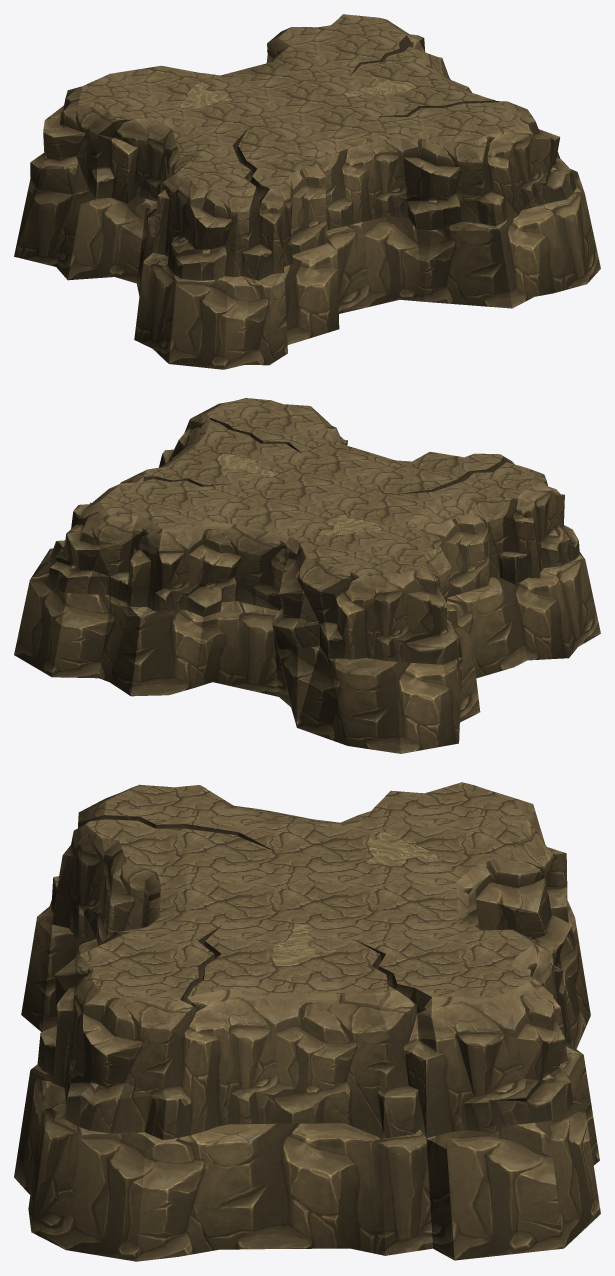
The model's file is D_dimian005.fbx.
3 views of the same model, one above another, from view 1: azimuth 30°, elevation 25°; view 2: azimuth 150°, elevation 25°; view 3: azimuth 270°, elevation 25° (orthographic). The views are drawn at different scales.
Parts seen in each view (by area): view 1: D_dimian005; view 2: D_dimian005; view 3: D_dimian005.
Boxes of the visible parts, x1,y1,x2,y2 form: D_dimian005: [14, 14, 600, 369]; D_dimian005: [14, 398, 600, 753]; D_dimian005: [14, 782, 600, 1261].
Size of the model in its own units: 2542 by 832 by 2094.
